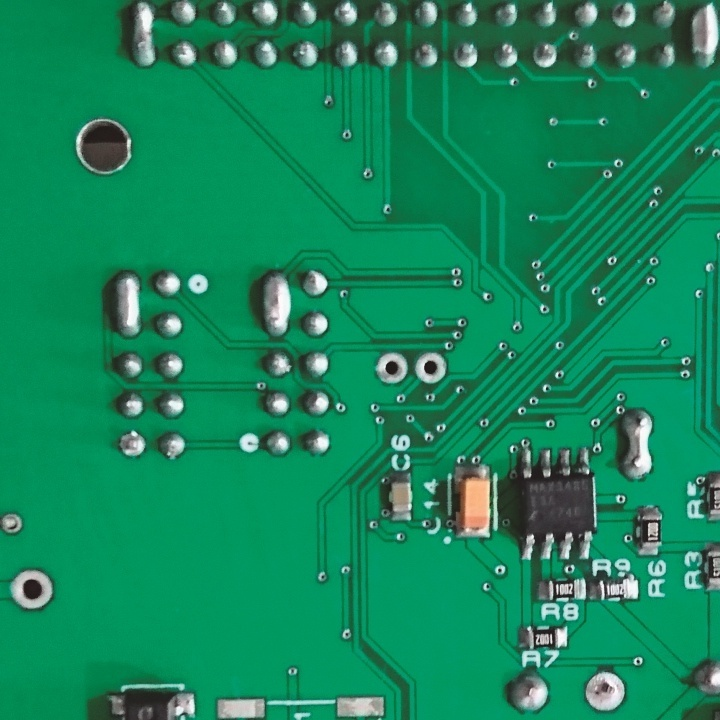F: (7, 564, 60, 613), (581, 667, 631, 715), (410, 349, 450, 386), (371, 349, 410, 385), (449, 37, 483, 75), (531, 40, 562, 73), (116, 429, 145, 461), (610, 1, 640, 31), (1, 507, 27, 538)
P: (616, 406, 659, 485), (257, 265, 295, 340), (109, 266, 145, 343), (124, 1, 162, 72), (686, 1, 720, 73)
